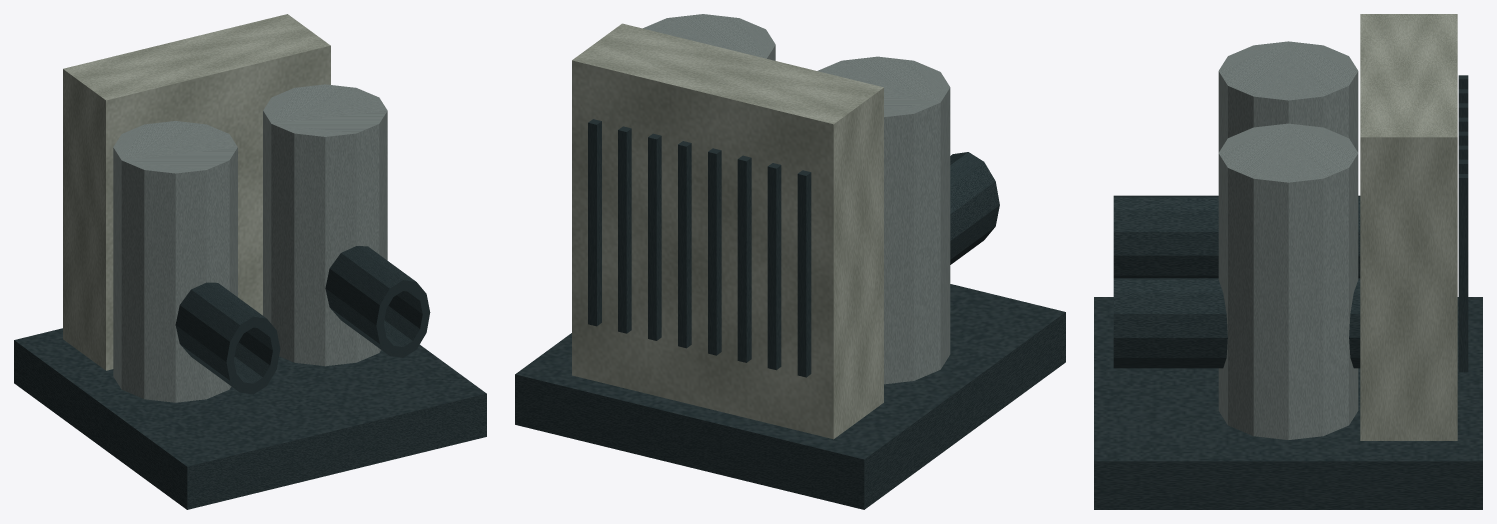
The model's file is roof_machinery_01.fbx.
3 views of the same model, side by side, from view 1: azimuth 30°, elevation 25°; view 2: azimuth 150°, elevation 25°; view 3: azimuth 270°, elevation 25° (orthographic). The views are drawn at different scales.
Parts seen in each view (by area): view 1: roof_machinery_01_LOD0; view 2: roof_machinery_01_LOD0; view 3: roof_machinery_01_LOD0.
Part boxes in pixels (left/top/right/bottom): roof_machinery_01_LOD0: left=14, top=14, right=486, bottom=509; roof_machinery_01_LOD0: left=515, top=14, right=1065, bottom=509; roof_machinery_01_LOD0: left=1094, top=14, right=1482, bottom=509.
Size of what is drawn, in the model's own units: 1 by 1 by 1.
